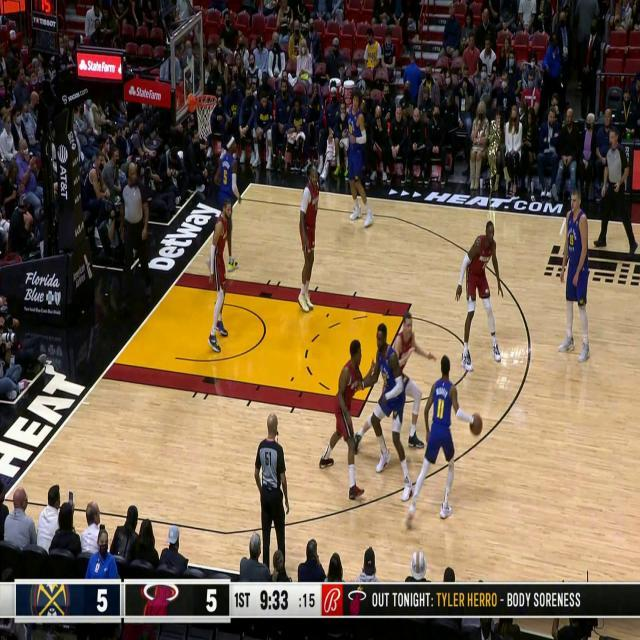rim: (471, 412, 483, 436)
